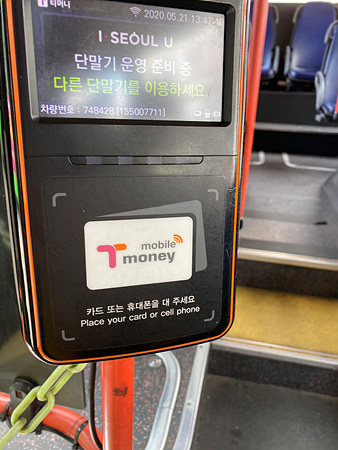terminal: (12, 7, 235, 346)
